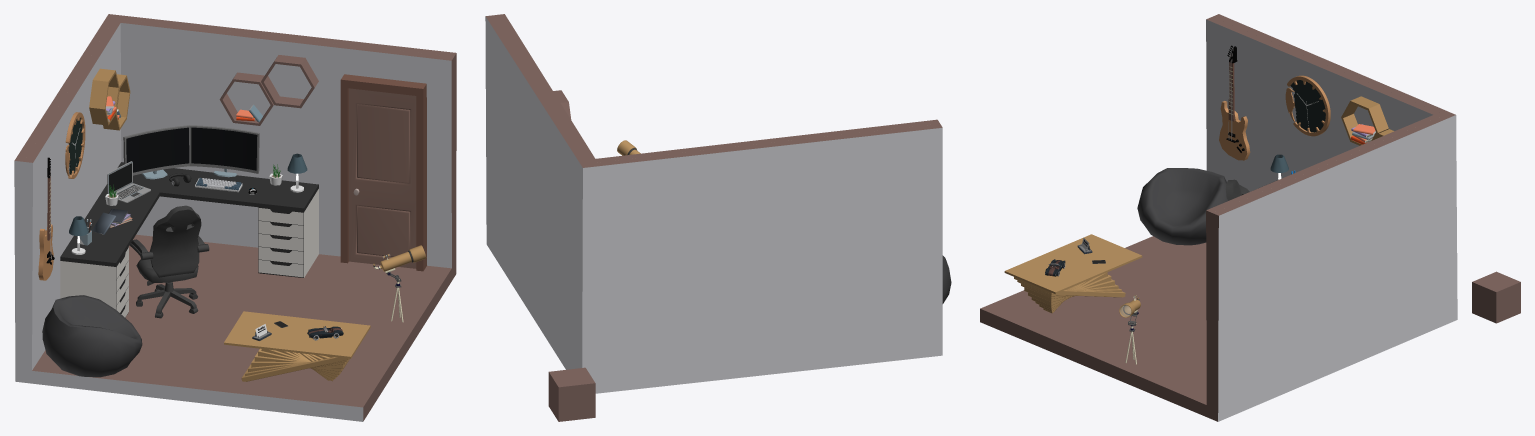
The model's file is Final Version.glb.
The picture shows the model from 3 angles, left to right: view 1: azimuth 30°, elevation 25°; view 2: azimuth 150°, elevation 25°; view 3: azimuth 270°, elevation 25°; orthographic projection. The views are drawn at different scales.
Parts seen in each view (by area): view 1: Body, Door, Table main, Screens, Table, Cushion Bag, Office Chair, Shelves, Books, Clock, Guitar, Telescope (+2 smaller); view 2: Body, Cube; view 3: Body, Table, Cushion Bag, Clock, Cube, Guitar, Shelves, Telescope.
Boxes of the visible parts, left/top/right/bottom form: Body: left=14, top=14, right=456, bottom=421; Door: left=340, top=74, right=426, bottom=271; Table main: left=60, top=162, right=318, bottom=317; Screens: left=107, top=125, right=259, bottom=202; Table: left=224, top=311, right=370, bottom=381; Cushion Bag: left=42, top=295, right=142, bottom=377; Office Chair: left=129, top=205, right=209, bottom=318; Shelves: left=89, top=55, right=318, bottom=130; Books: left=92, top=96, right=262, bottom=234; Clock: left=65, top=112, right=85, bottom=178; Guitar: left=38, top=157, right=54, bottom=280; Telescope: left=373, top=245, right=426, bottom=322; Body: left=485, top=14, right=942, bottom=393; Cube: left=548, top=367, right=595, bottom=421; Body: left=980, top=14, right=1457, bottom=421; Table: left=1004, top=234, right=1142, bottom=313; Cushion Bag: left=1137, top=168, right=1228, bottom=245; Clock: left=1285, top=75, right=1330, bottom=136; Cube: left=1472, top=271, right=1520, bottom=323; Guitar: left=1219, top=45, right=1250, bottom=160; Shelves: left=1341, top=96, right=1393, bottom=145; Telescope: left=1119, top=295, right=1140, bottom=364.
Bounding box in the file's own units: 4.78 × 2.29 × 5.41.
Materials: 70 (5 with a texture image).
